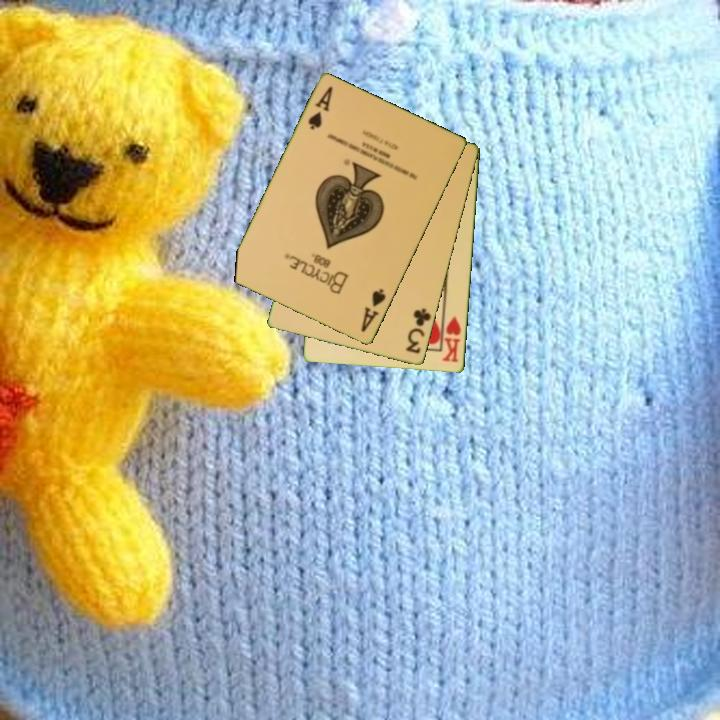3c: (402, 305, 434, 357)
As: (357, 285, 389, 335), (305, 83, 336, 133)
Kh: (439, 310, 464, 365)
